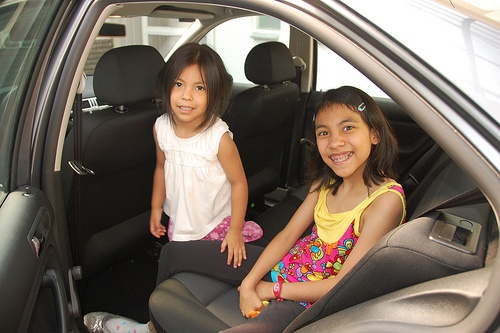head: (311, 82, 383, 182), (164, 43, 226, 123)
person: (187, 79, 409, 326), (137, 42, 257, 319)
